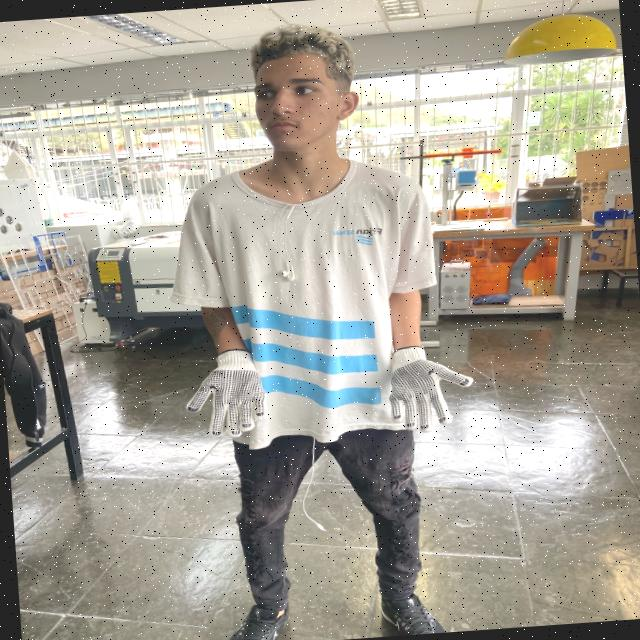LUVA: (387, 343, 478, 431), (182, 349, 270, 438)
SEM BOTA: (375, 593, 454, 633), (223, 600, 294, 640)
